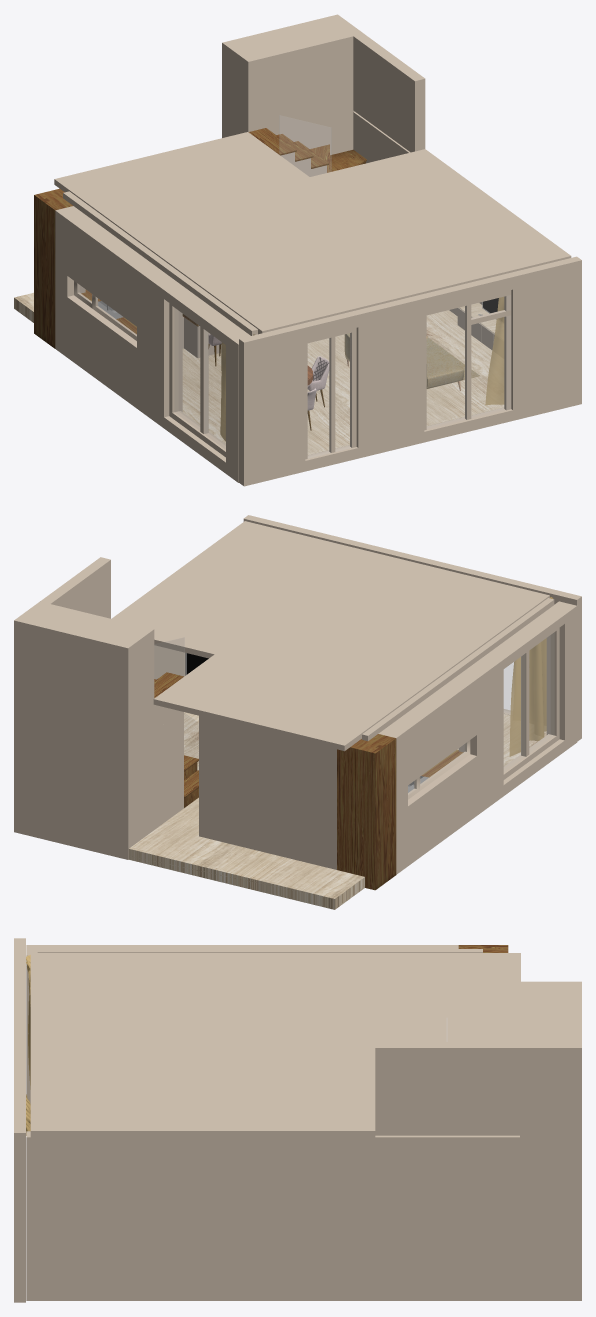
Rendered from living_room (low).glb.
3 views of the same model, one above another, from view 1: azimuth 30°, elevation 25°; view 2: azimuth 150°, elevation 25°; view 3: azimuth 270°, elevation 25° (orthographic). The views are drawn at different scales.
Visible parts, largest first — view 1: ceiling7, wall_BIG, leftwall5, back_wall, glass (×2), floor2, pCube96, pane (×2), wall_corner1, pane_left, stair_glass2, ceiling_light (+6 smaller); view 2: ceiling7, back_wall, leftwall5, shelf2, floor2, wall_corner1, wall_BIG, stair_pillar, pane_left, curtain1, pCube96, ceiling_light (+5 smaller); view 3: tv_wall, ceiling7, back_wall, pCube96, wall_BIG, leftwall5, ceiling_light.
Boxes of the visible parts, x1=… form: ceiling7: x1=54, y1=132, x2=571, y2=333; wall_BIG: x1=239, y1=256, x2=581, y2=486; leftwall5: x1=55, y1=206, x2=250, y2=482; back_wall: x1=222, y1=14, x2=363, y2=155; glass (×2): x1=308, y1=297, x2=504, y2=458; floor2: x1=14, y1=292, x2=504, y2=455; pCube96: x1=353, y1=33, x2=425, y2=152; pane (×2): x1=305, y1=290, x2=511, y2=459; wall_corner1: x1=34, y1=188, x2=72, y2=348; pane_left: x1=169, y1=303, x2=225, y2=457; stair_glass2: x1=279, y1=115, x2=331, y2=176; ceiling_light: x1=63, y1=191, x2=257, y2=335; ceiling7: x1=111, y1=521, x2=549, y2=751; back_wall: x1=14, y1=601, x2=154, y2=859; leftwall5: x1=378, y1=601, x2=577, y2=874; shelf2: x1=199, y1=715, x2=336, y2=869; floor2: x1=128, y1=712, x2=546, y2=909; wall_corner1: x1=337, y1=734, x2=396, y2=890; wall_BIG: x1=243, y1=515, x2=581, y2=741; stair_pillar: x1=153, y1=711, x2=183, y2=829; pane_left: x1=503, y1=628, x2=559, y2=779; curtain1: x1=509, y1=596, x2=553, y2=756; pCube96: x1=40, y1=557, x2=110, y2=618; ceiling_light: x1=362, y1=598, x2=554, y2=741; tv_wall: x1=26, y1=1131, x2=519, y2=1300; ceiling7: x1=30, y1=953, x2=520, y2=1137; back_wall: x1=520, y1=981, x2=581, y2=1300; pCube96: x1=375, y1=1042, x2=520, y2=1135; wall_BIG: x1=14, y1=938, x2=25, y2=1302; leftwall5: x1=26, y1=945, x2=458, y2=1103; ceiling_light: x1=37, y1=949, x2=482, y2=952.
Size of the model in its own units: 6.39 by 3.88 by 7.88.
27 materials, 13 textured.
